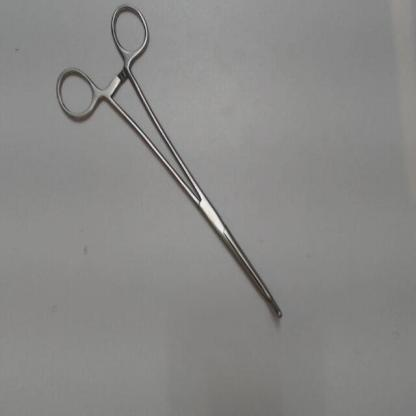Lahey Forceps: (45, 3, 294, 331)
